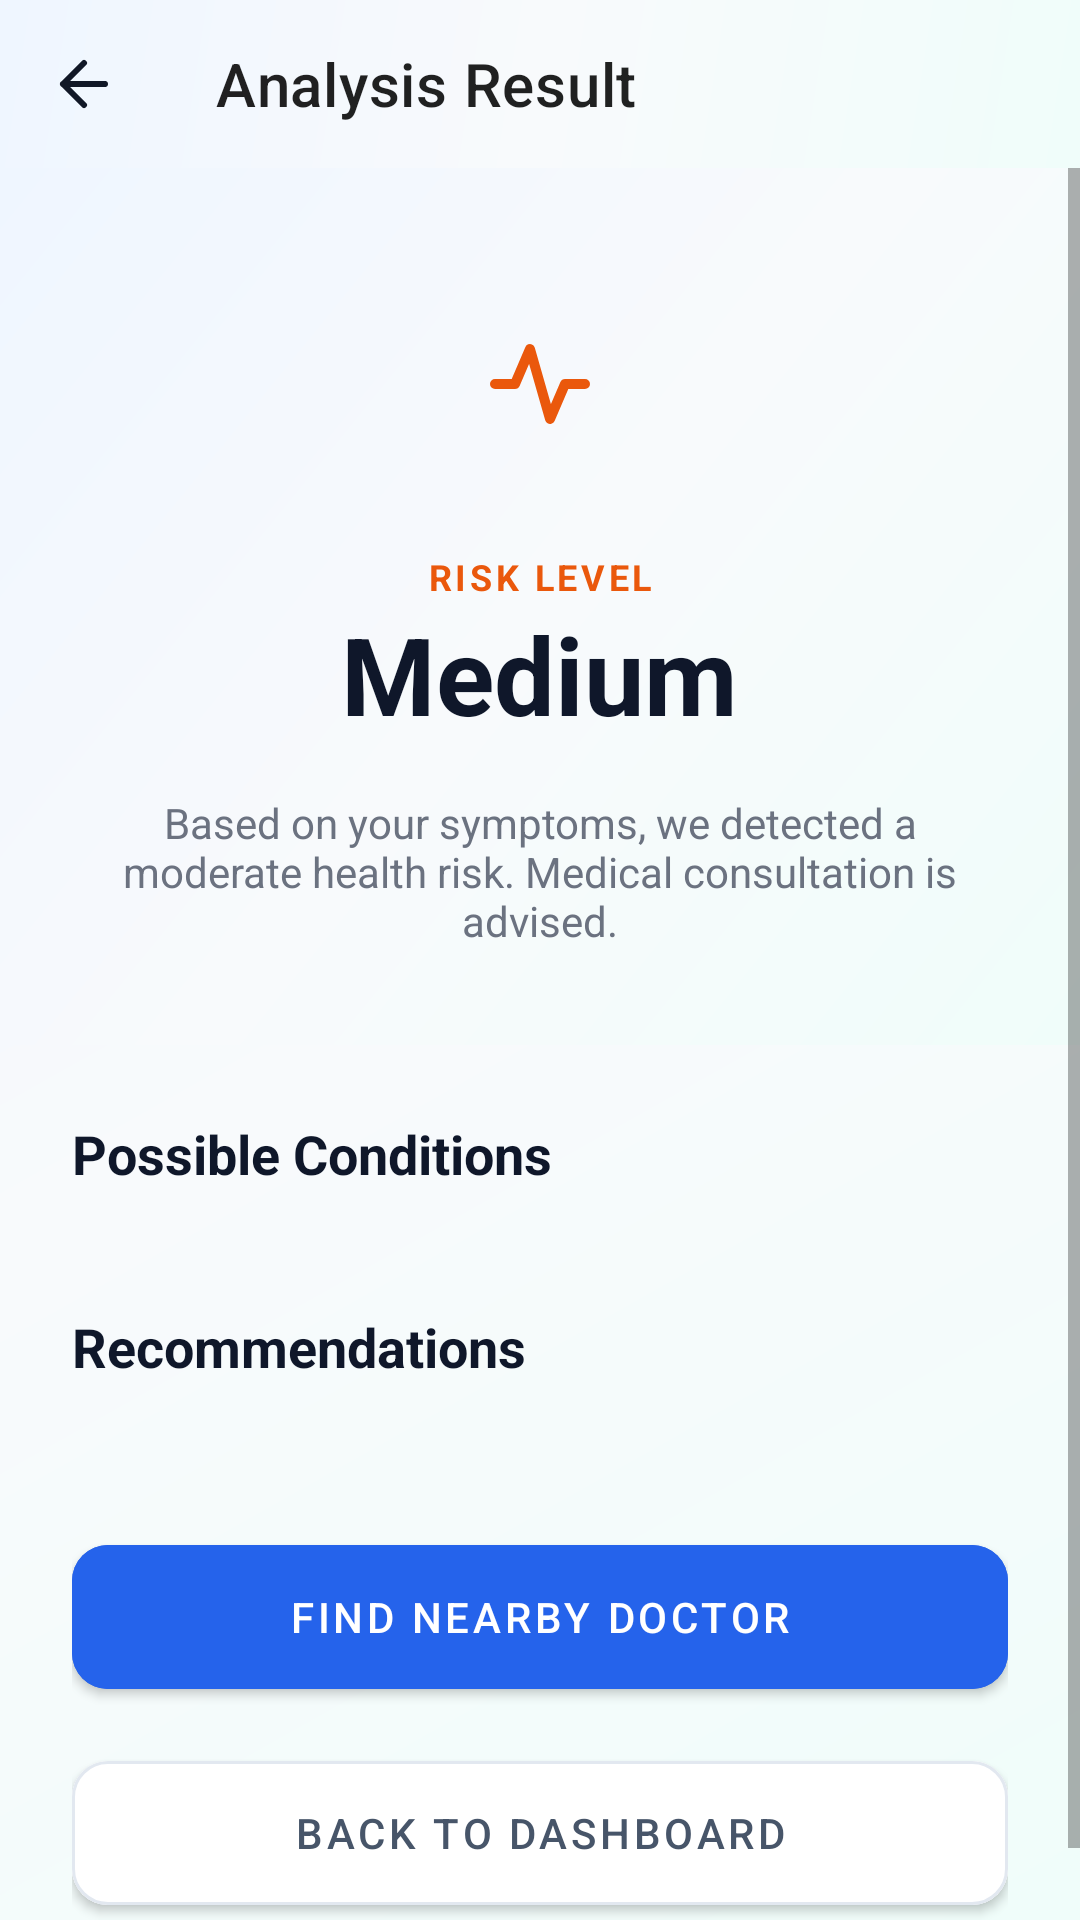

Icon click points for this 1080px×1920px phone screenshot, format (x,y):
pulse: (540,384)
